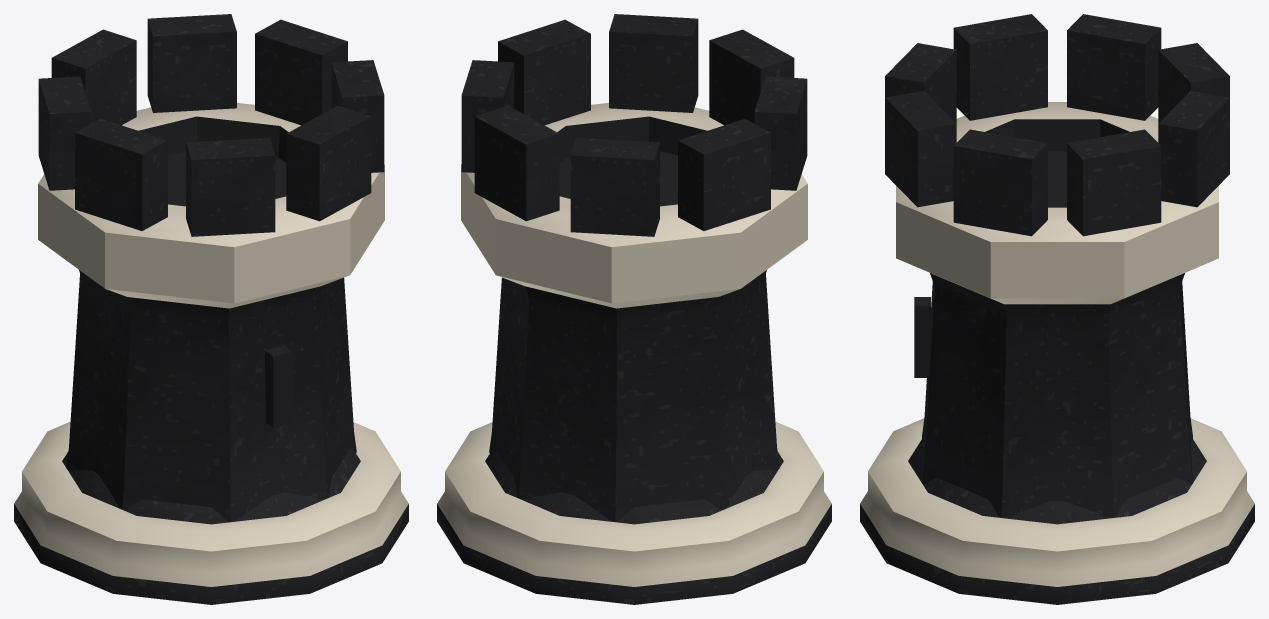
File: rook_dark_lod1.glb
The picture shows the model from 3 angles, left to right: view 1: azimuth 30°, elevation 25°; view 2: azimuth 150°, elevation 25°; view 3: azimuth 270°, elevation 25°; orthographic projection.
Parts seen in each view (by area): view 1: Piece_Rook_Dark_Mesh; view 2: Piece_Rook_Dark_Mesh; view 3: Piece_Rook_Dark_Mesh.
Boxes of the visible parts, <box> form: Piece_Rook_Dark_Mesh: <box>14,14,408,604</box>; Piece_Rook_Dark_Mesh: <box>437,14,831,604</box>; Piece_Rook_Dark_Mesh: <box>860,14,1254,604</box>.
Bounding box in the file's own units: 0.7 × 0.85 × 0.7.
Materials: 3 (1 with a texture image).
